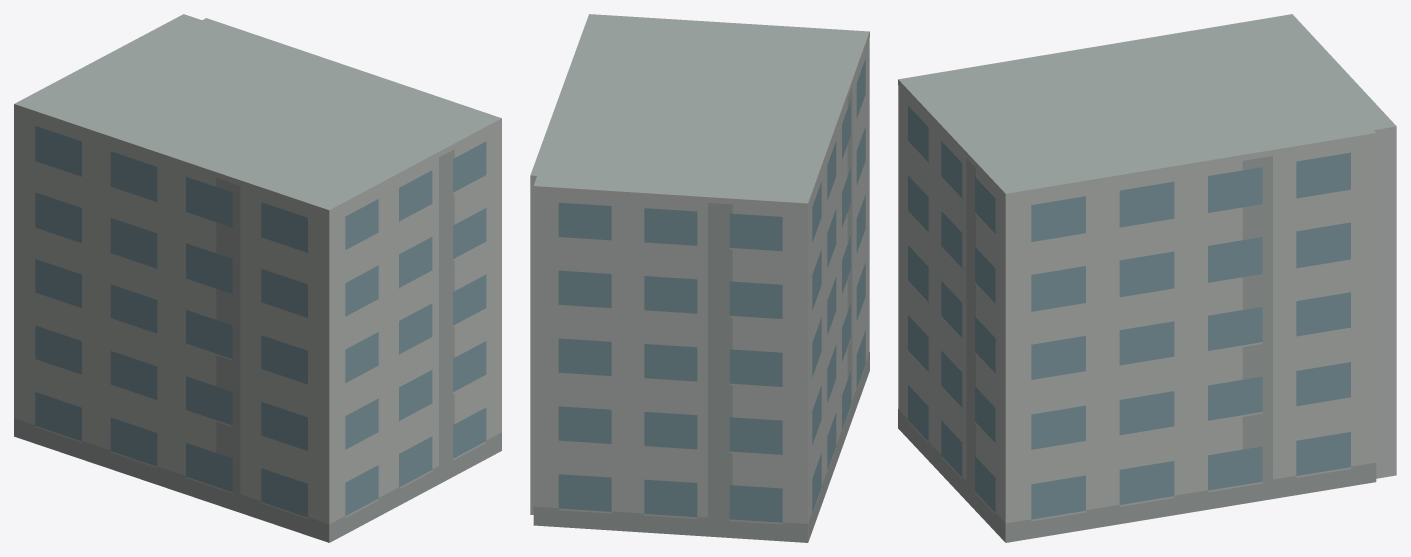
File: survey-upis-32889158.glb
3 views of the same model, side by side, from view 1: azimuth 30°, elevation 25°; view 2: azimuth 150°, elevation 25°; view 3: azimuth 270°, elevation 25° (orthographic). The views are drawn at different scales.
Visible parts, largest first — view 1: survey-upis-32889158.tmp; view 2: survey-upis-32889158.tmp; view 3: survey-upis-32889158.tmp.
Part boxes in pixels (<box>): survey-upis-32889158.tmp: <box>14,14,501,542</box>; survey-upis-32889158.tmp: <box>530,14,869,542</box>; survey-upis-32889158.tmp: <box>898,14,1396,542</box>.
Bounding box in the file's own units: 15.81 × 14.3 × 18.52.
